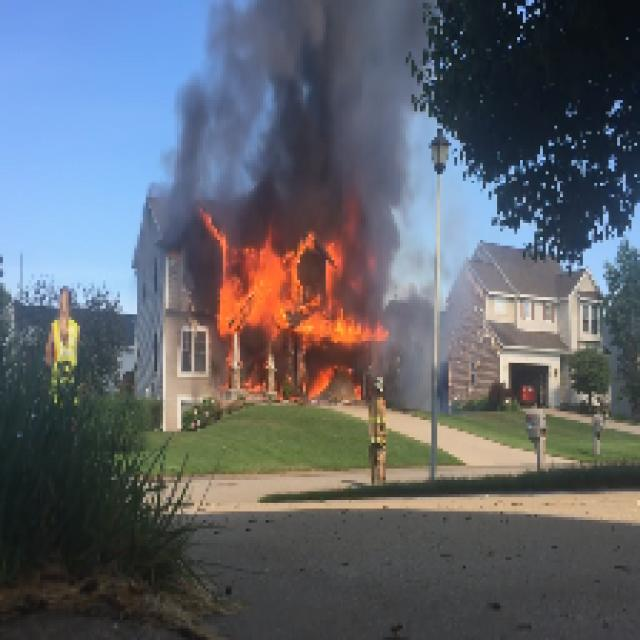fire: (217, 243, 348, 343)
smoke: (254, 3, 396, 229)
